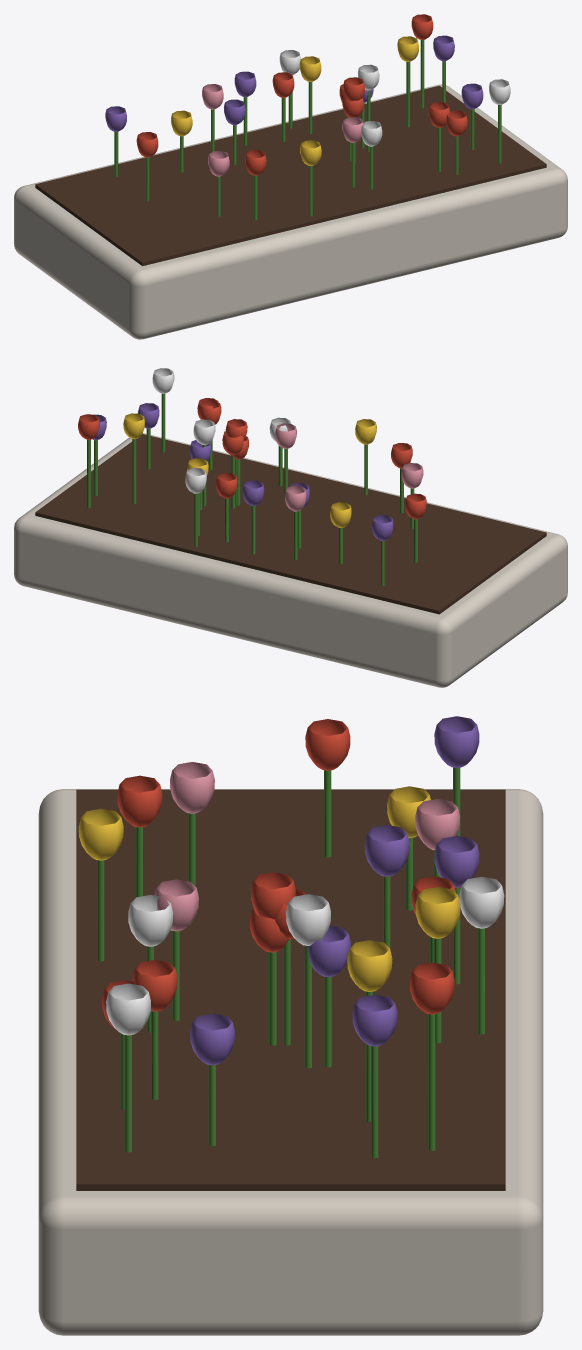
The model's file is cicek-tarhi.glb.
3 views of the same model, one above another, from view 1: azimuth 30°, elevation 25°; view 2: azimuth 150°, elevation 25°; view 3: azimuth 270°, elevation 25° (orthographic). The views are drawn at different scales.
Parts seen in each view (by area): view 1: cicek-tarhi; view 2: cicek-tarhi; view 3: cicek-tarhi.
Boxes of the visible parts, left/top/right/bottom form: cicek-tarhi: left=14, top=14, right=567, bottom=339; cicek-tarhi: left=14, top=368, right=567, bottom=687; cicek-tarhi: left=38, top=716, right=543, bottom=1335.
Bounding box in the file's own units: 2 × 0.7053 × 1.
